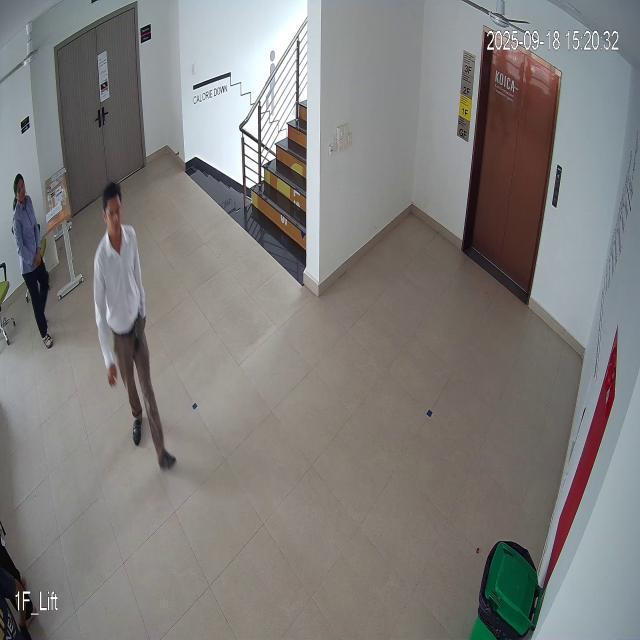face: (101, 178, 127, 241)
